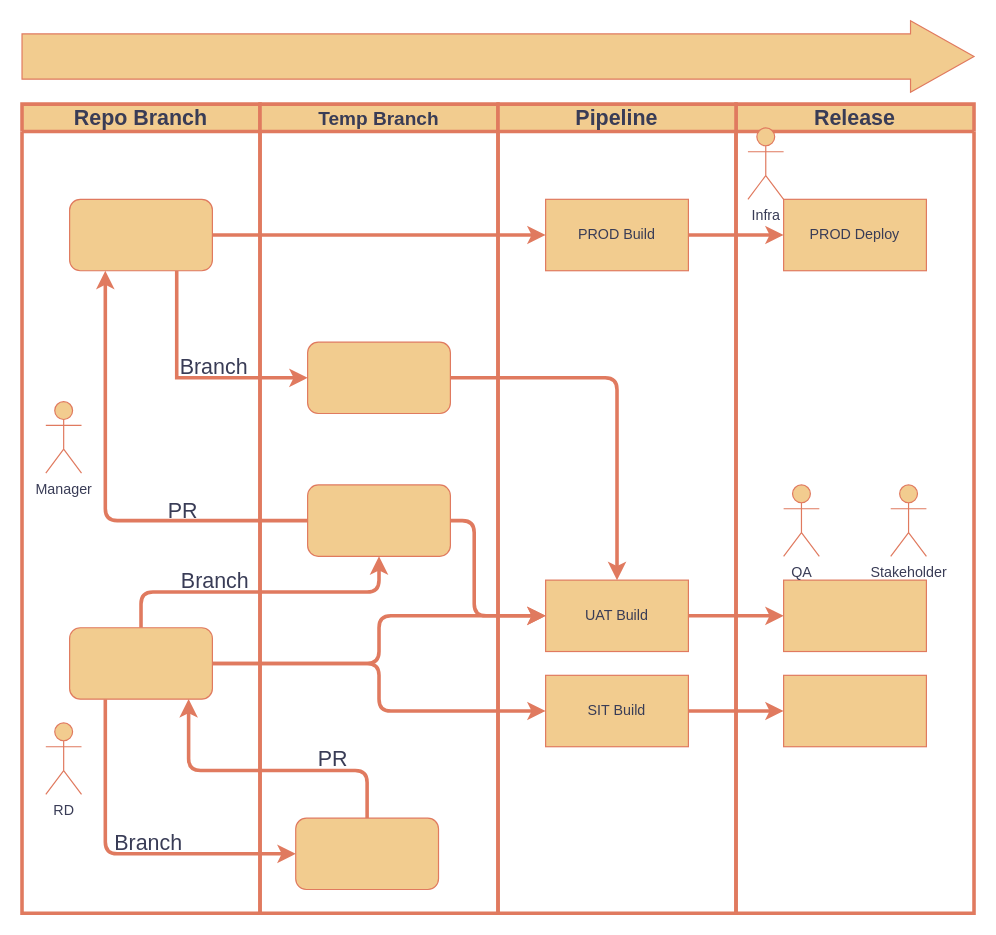
Some shapes in this 996 by 935 pixel diagram are drawn without their labels. Each missing label, with the centre of its shape:
develop: [140,663]
feature/some_task: [367,853]
hotfix/1.0.1: [378,377]
main: [140,234]
release/1.0.0: [378,520]
SIT Deploy: [854,710]
UAT Deploy: [854,615]
